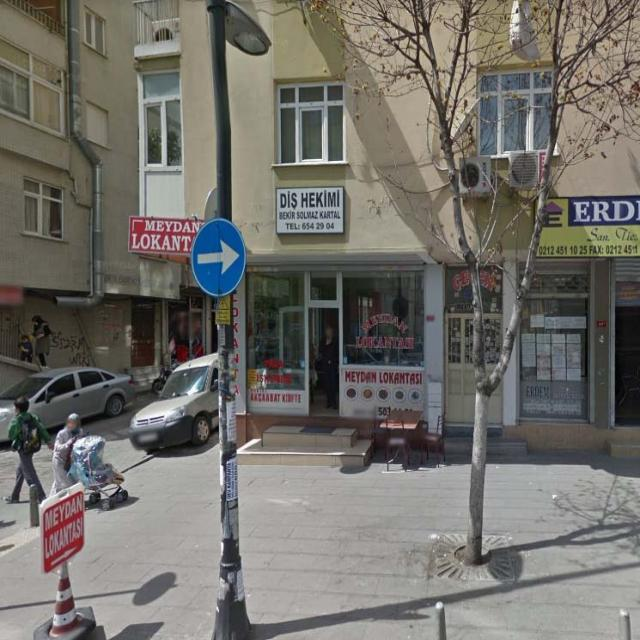sag: (193, 218, 248, 295)
